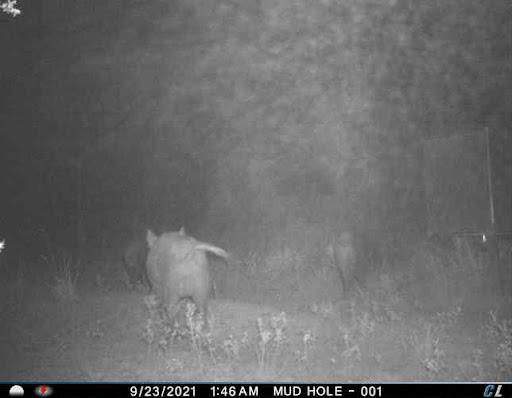Hog: (139, 221, 232, 328)
